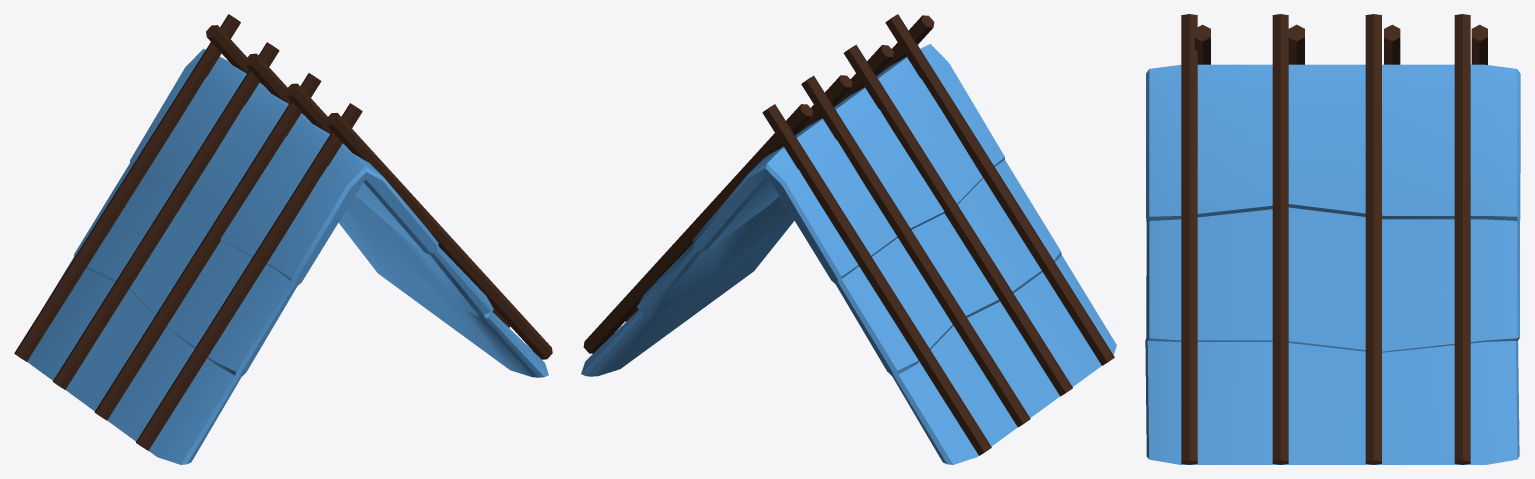
File: Tent_1.fbx
The picture shows the model from 3 angles, left to right: view 1: azimuth 30°, elevation 25°; view 2: azimuth 150°, elevation 25°; view 3: azimuth 270°, elevation 25°; orthographic projection. The views are drawn at different scales.
Visible parts, largest first — view 1: Tent 1; view 2: Tent 1; view 3: Tent 1.
Part boxes in pixels (x1,y1,x2,y2): Tent 1: (14,14,552,464); Tent 1: (581,14,1116,464); Tent 1: (1145,14,1520,464).
Size of the model in its own units: 2.66 by 1.84 by 1.85.
